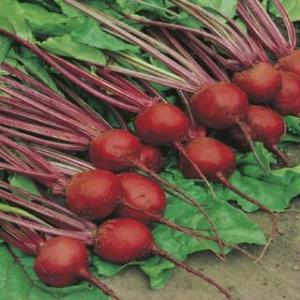beet: (88, 222, 169, 264), (31, 232, 93, 284), (183, 78, 243, 130), (172, 138, 238, 183), (65, 167, 121, 219), (118, 172, 166, 226), (88, 129, 146, 173), (131, 105, 188, 146), (241, 102, 286, 152), (234, 62, 278, 100)
